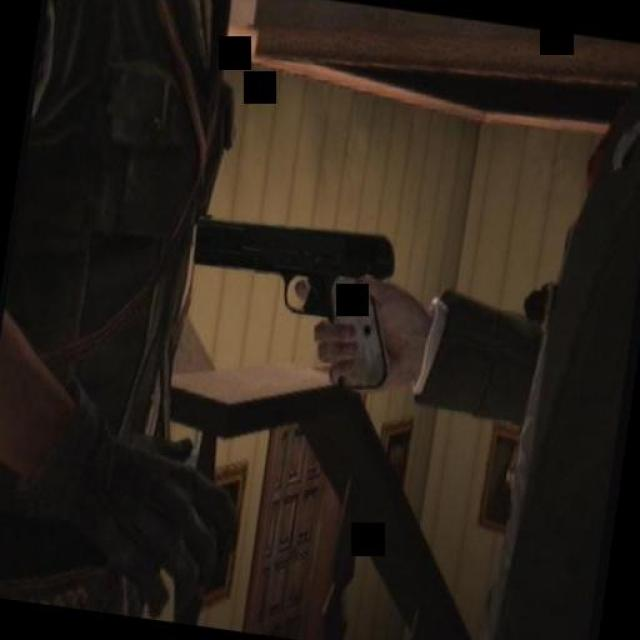gun: (176, 204, 414, 394)
